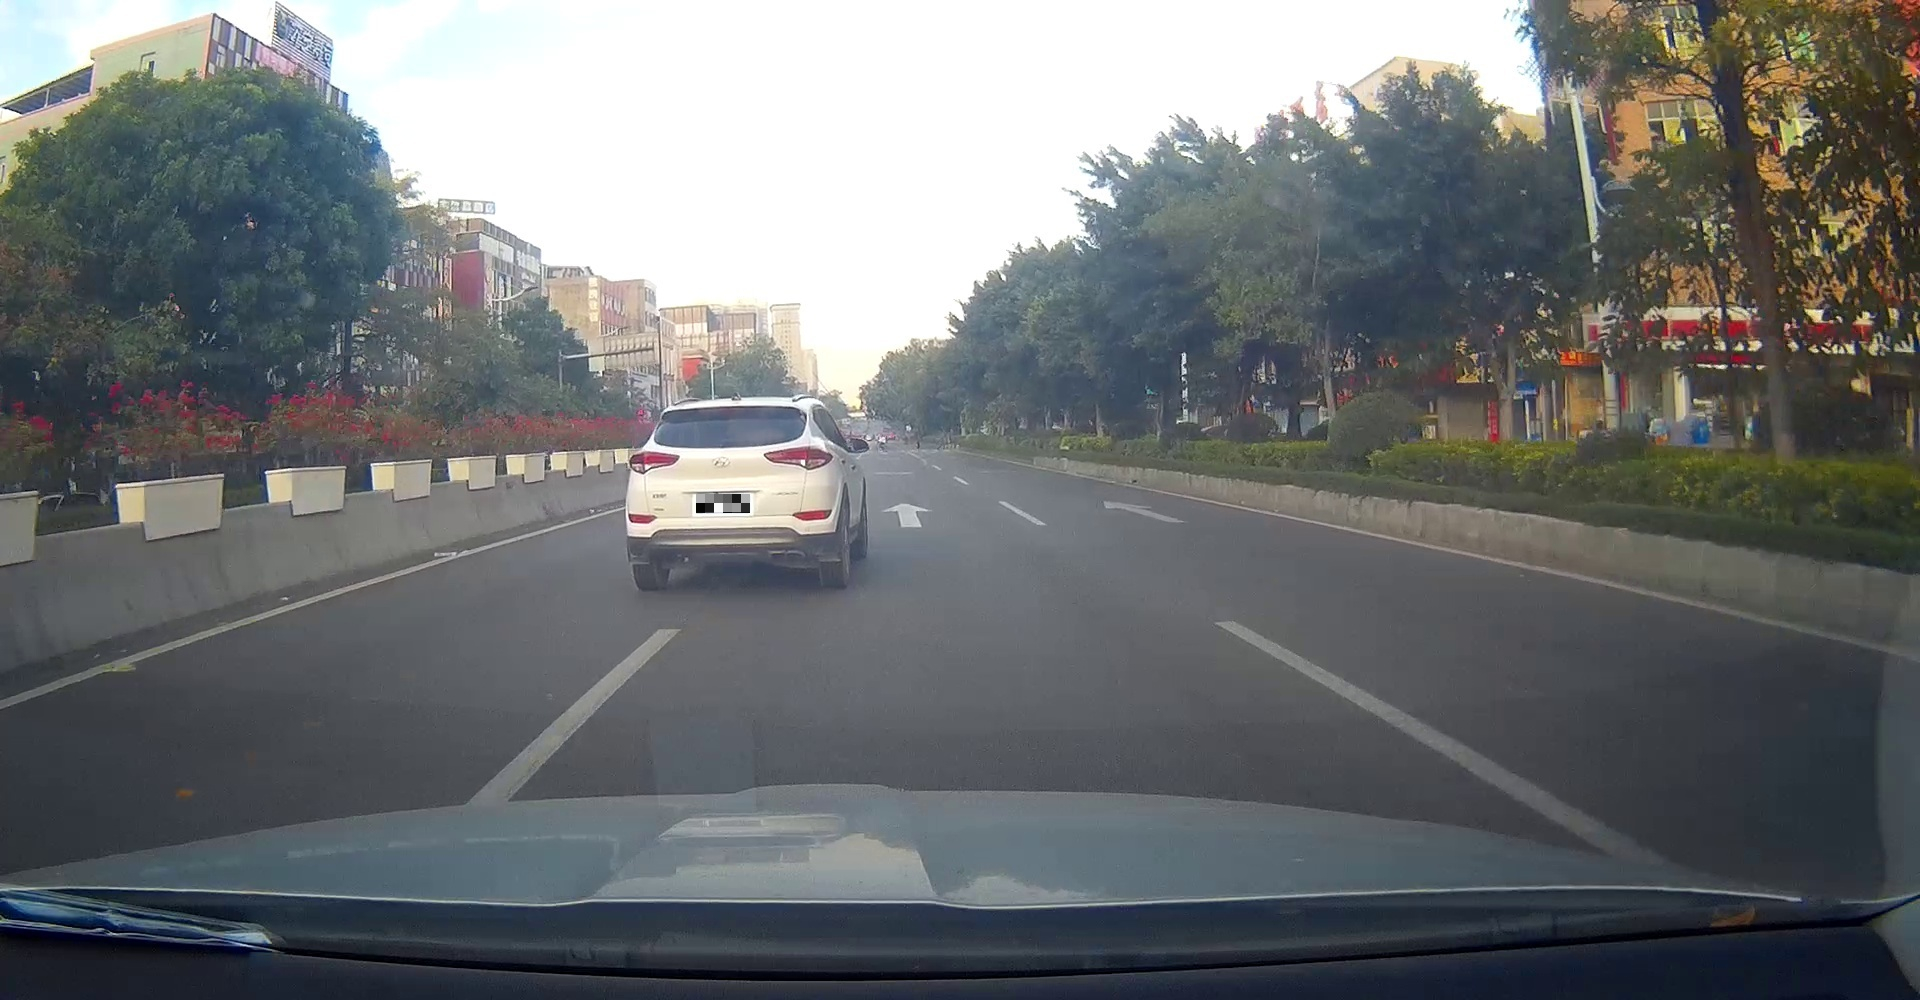L_light: (629, 451, 681, 475)
R_light: (763, 444, 834, 470)
T_light: (721, 407, 747, 411)
day-no: (623, 397, 841, 585)
plate_1: (696, 494, 750, 513)
